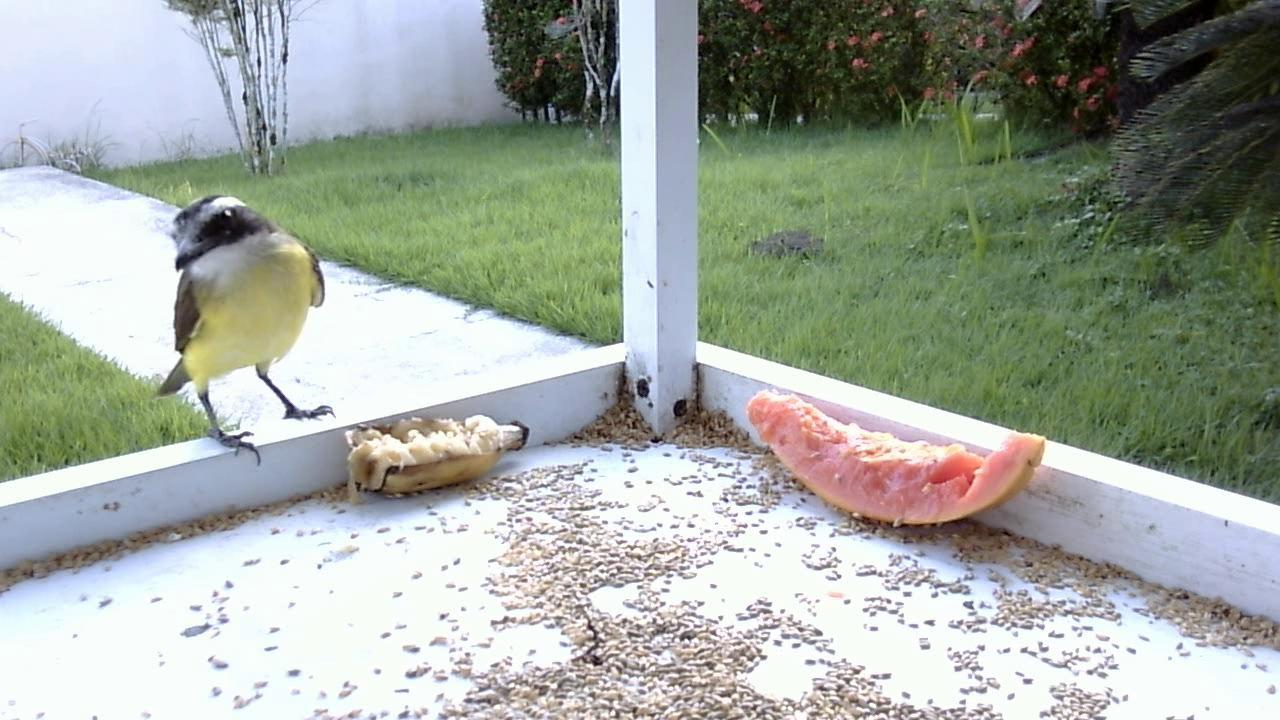bem_te_vi: (145, 181, 338, 475)
